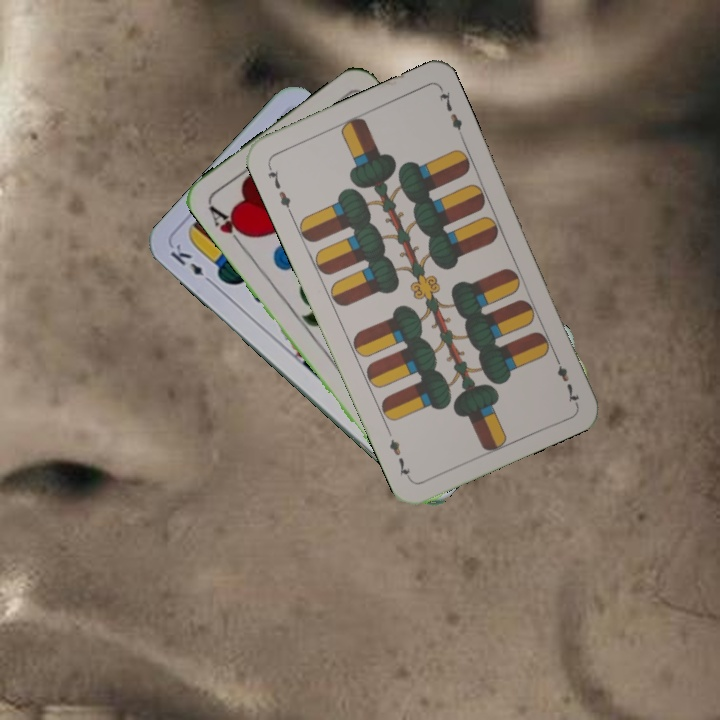E7: (263, 160, 295, 216), (550, 350, 582, 406)
EK: (166, 240, 216, 287)
HA: (205, 201, 252, 251)
